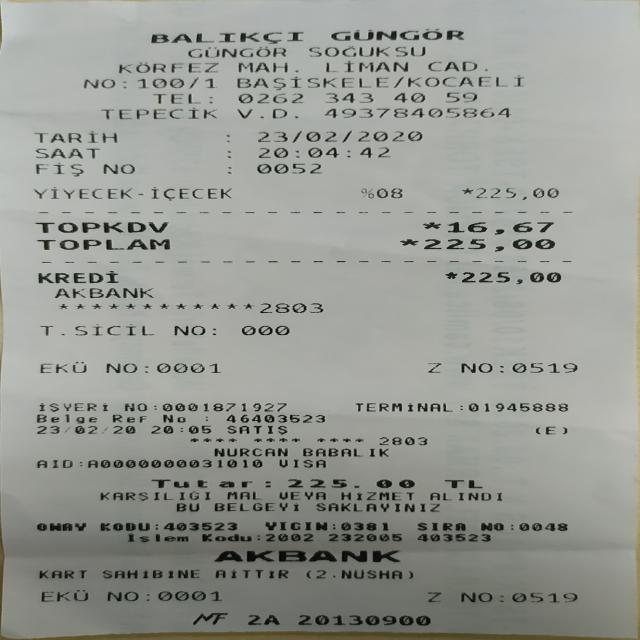text: (323, 105, 510, 119), (214, 549, 399, 563), (236, 75, 385, 89), (254, 130, 420, 141), (299, 612, 429, 626), (88, 458, 262, 468), (308, 44, 422, 59), (423, 237, 553, 250), (288, 477, 414, 490), (328, 28, 464, 40), (162, 400, 286, 413), (100, 106, 215, 120), (34, 221, 168, 233), (256, 146, 389, 158), (149, 32, 302, 42), (405, 75, 520, 88), (444, 270, 558, 283), (316, 501, 439, 513), (35, 238, 168, 249), (448, 220, 550, 234), (117, 60, 218, 74), (187, 45, 285, 59), (34, 186, 132, 200), (100, 490, 210, 502), (476, 186, 558, 202), (468, 400, 567, 413), (152, 477, 251, 490), (54, 286, 152, 299), (356, 400, 454, 413), (304, 569, 414, 580), (36, 423, 134, 435), (102, 568, 198, 580), (316, 60, 410, 72), (152, 186, 230, 200), (226, 412, 324, 423), (142, 76, 217, 90), (256, 160, 321, 176), (72, 323, 152, 336), (156, 360, 219, 376), (214, 501, 298, 513), (34, 130, 116, 142), (36, 270, 117, 282), (303, 447, 388, 458), (237, 91, 302, 105), (34, 146, 99, 160), (262, 301, 326, 315), (512, 590, 576, 604), (162, 520, 236, 532), (328, 531, 402, 543), (215, 568, 288, 580), (236, 106, 298, 120), (341, 490, 413, 502), (429, 490, 501, 502), (417, 531, 489, 543), (512, 361, 576, 374), (157, 589, 220, 602), (214, 447, 286, 458), (426, 58, 476, 73), (36, 160, 82, 176), (40, 359, 86, 375), (265, 520, 326, 532), (35, 402, 108, 412), (152, 91, 200, 106), (241, 322, 289, 337), (127, 531, 187, 543), (36, 412, 98, 423), (236, 61, 288, 74), (150, 424, 210, 435), (226, 424, 286, 435), (326, 91, 372, 105), (201, 531, 251, 543), (37, 520, 86, 532), (42, 589, 87, 602), (101, 520, 149, 532), (417, 520, 465, 532), (265, 531, 313, 543), (38, 568, 86, 580), (278, 490, 325, 502), (341, 520, 388, 532), (520, 520, 566, 532), (188, 612, 228, 625), (380, 435, 425, 446), (444, 477, 481, 490), (455, 591, 492, 604), (392, 90, 424, 105), (444, 90, 476, 105), (103, 160, 133, 176), (106, 359, 136, 375), (278, 458, 325, 468), (174, 322, 205, 337), (82, 76, 114, 90), (227, 490, 260, 502), (461, 361, 491, 374), (248, 612, 278, 625), (114, 412, 148, 423), (378, 186, 401, 202), (36, 458, 72, 468), (107, 590, 137, 602), (40, 322, 63, 337), (534, 425, 568, 435), (482, 520, 507, 532), (120, 402, 147, 412), (420, 220, 439, 234), (176, 501, 198, 513), (163, 412, 184, 423), (400, 237, 417, 250), (427, 590, 440, 604), (461, 186, 472, 202), (427, 361, 440, 374), (120, 76, 132, 90), (391, 75, 401, 89), (458, 400, 468, 413), (361, 186, 369, 202), (204, 91, 212, 106), (506, 520, 516, 532), (224, 130, 229, 144), (227, 146, 231, 160), (499, 590, 503, 604), (499, 361, 503, 374), (212, 322, 215, 337), (138, 186, 141, 200), (226, 167, 232, 174), (482, 66, 488, 72), (144, 360, 146, 375), (79, 458, 82, 468), (153, 400, 155, 413), (155, 520, 157, 532), (332, 520, 334, 532), (256, 531, 258, 543), (146, 590, 148, 602), (205, 412, 206, 423)
